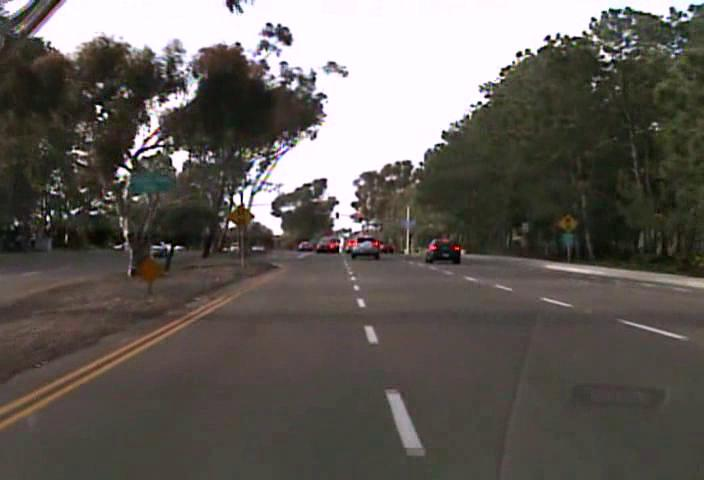signalAhead: (557, 212, 579, 234)
